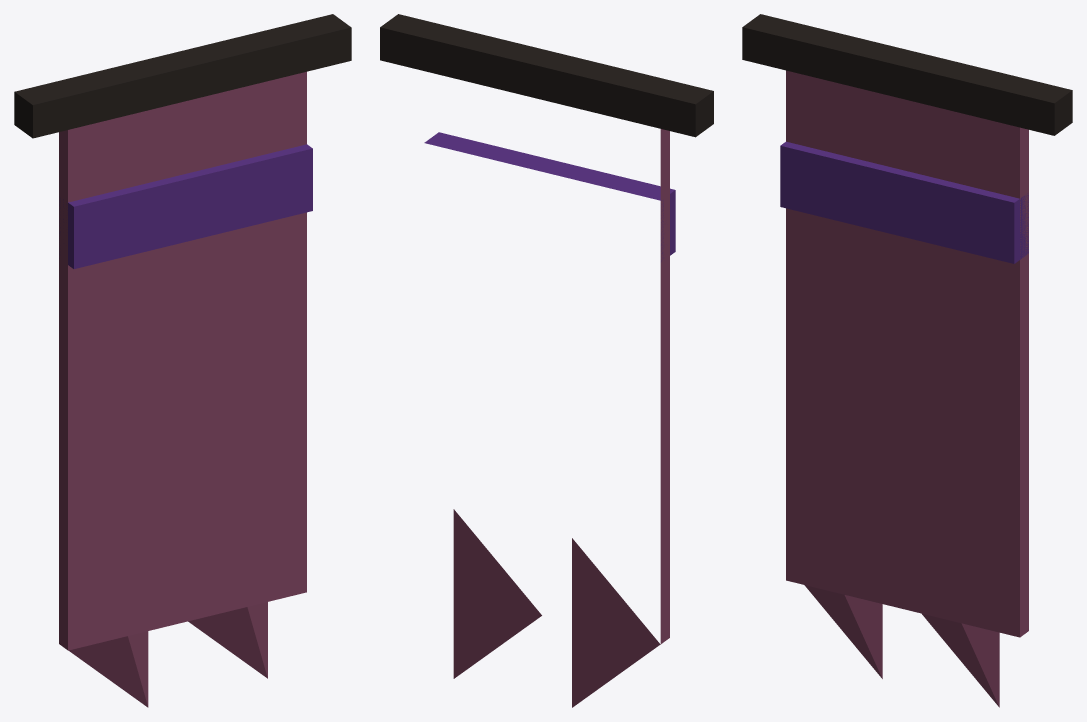
File: banner.glb
3 views of the same model, side by side, from view 1: azimuth 30°, elevation 25°; view 2: azimuth 150°, elevation 25°; view 3: azimuth 330°, elevation 25° (orthographic). The views are drawn at different scales.
Visible parts, largest first — view 1: Cloth, Rod, Stripe, TailL, TailR; view 2: Rod, TailR, TailL, Cloth, Stripe; view 3: Cloth, Stripe, Rod, TailL, TailR.
Boxes of the visible parts, bbox=[...] form: Cloth: bbox=[59, 71, 306, 650]; Rod: bbox=[14, 14, 351, 138]; Stripe: bbox=[59, 144, 312, 268]; TailL: bbox=[68, 631, 148, 707]; TailR: bbox=[188, 602, 267, 678]; Rod: bbox=[380, 14, 713, 137]; TailR: bbox=[453, 509, 541, 678]; TailL: bbox=[572, 538, 660, 707]; Cloth: bbox=[660, 129, 669, 644]; Stripe: bbox=[424, 132, 675, 261]; Cloth: bbox=[786, 70, 1028, 637]; Stripe: bbox=[780, 141, 1028, 263]; Rod: bbox=[742, 14, 1072, 135]; TailL: bbox=[804, 585, 882, 678]; TailR: bbox=[922, 613, 999, 707].
Size of the model in its own units: 1.6 by 3.09 by 0.17.
